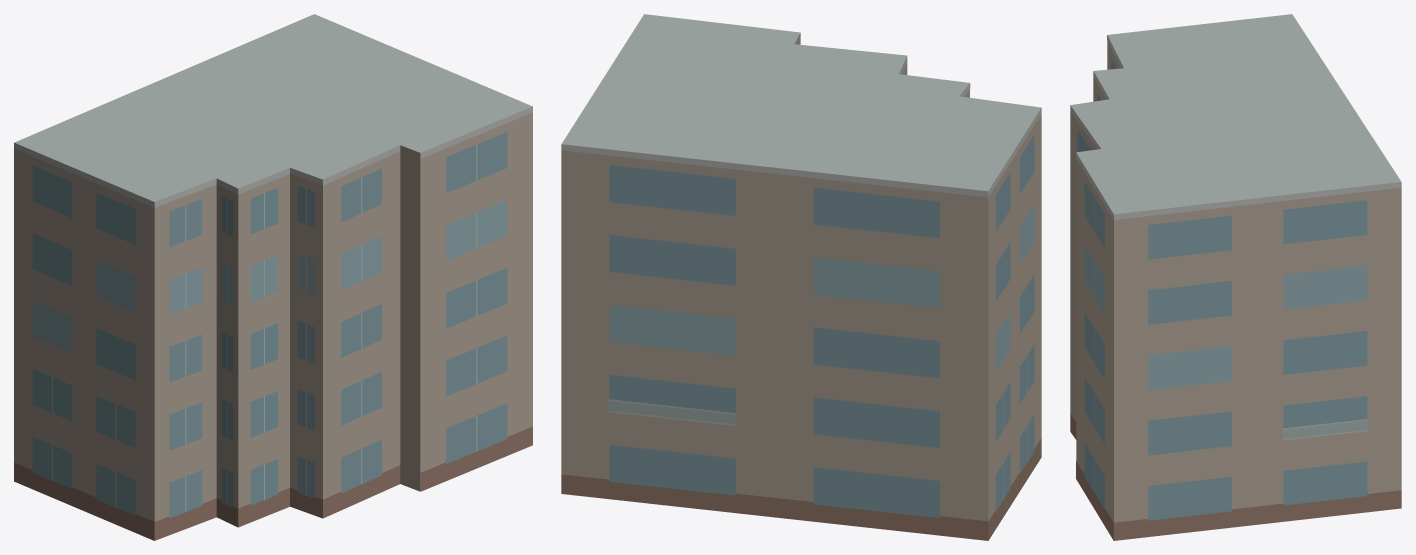
File: survey-upis-32712539.glb
3 views of the same model, side by side, from view 1: azimuth 30°, elevation 25°; view 2: azimuth 150°, elevation 25°; view 3: azimuth 270°, elevation 25° (orthographic). The views are drawn at different scales.
Parts seen in each view (by area): view 1: survey-upis-32712539.tmp; view 2: survey-upis-32712539.tmp; view 3: survey-upis-32712539.tmp.
Part boxes in pixels (left/top/right/bottom): survey-upis-32712539.tmp: left=14, top=14, right=532, bottom=540; survey-upis-32712539.tmp: left=561, top=14, right=1041, bottom=540; survey-upis-32712539.tmp: left=1070, top=14, right=1401, bottom=540.
Bounding box in the file's own units: 18.3 × 13.9 × 12.79.
